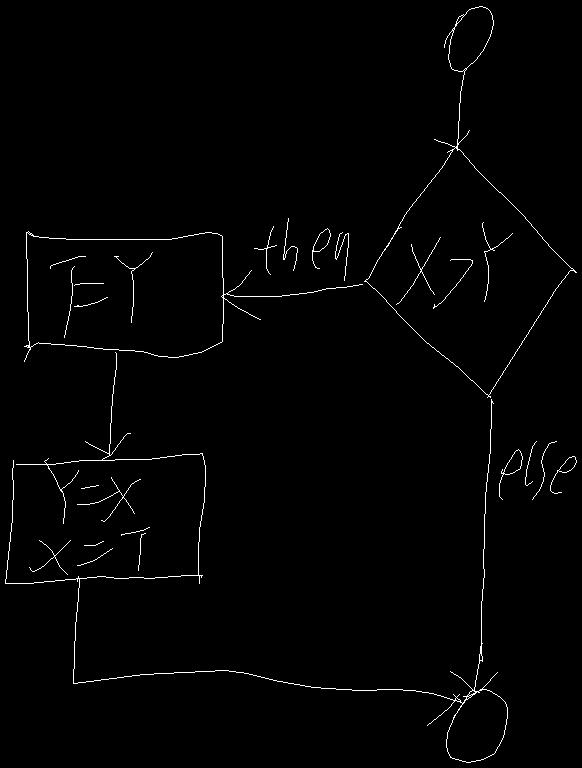arrow: (73, 576, 461, 725), (450, 399, 497, 696), (221, 270, 362, 319), (85, 352, 130, 459), (434, 69, 469, 152)
connection: (446, 689, 507, 762), (444, 6, 493, 71)
decision: (364, 146, 576, 397)
process: (5, 453, 205, 583), (24, 231, 223, 361)
text: (29, 458, 149, 574), (396, 222, 512, 308), (50, 252, 152, 337), (254, 218, 348, 280), (499, 441, 576, 499)
